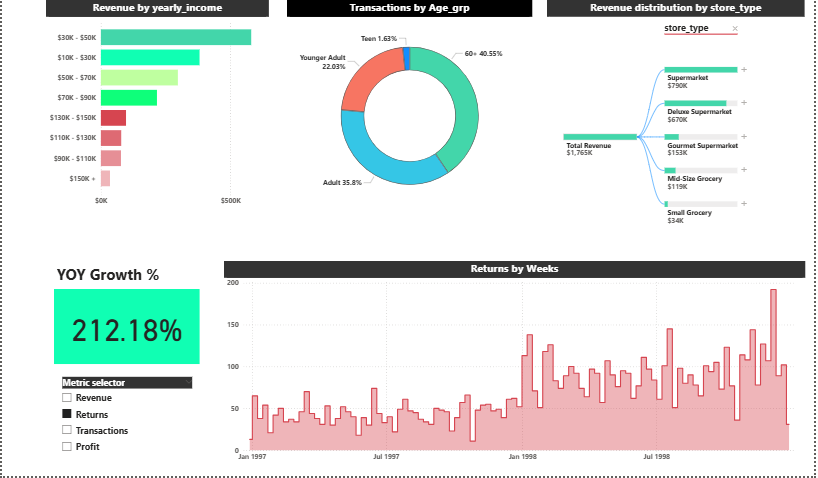

The dashboard page shown, as its layout file describes it:
{"tool":"powerbi","page":{"name":"Customer and store ","canvas":[1450,850],"ordinal":1},"visuals":[{"type":"clusteredBarChart","title":"Revenue by yearly_income","fields":{"Category":["Customers.yearly_income"],"Y":["All Measures.Total Revenue"]},"box":[78.3,0,398.3,376.7],"z":0},{"type":"decompositionTreeVisual","title":"Revenue distribution by store_type","fields":{"Analyze":["All Measures.Total Revenue"],"ExplainBy":["Stores.store_type","Stores.state"]},"box":[974,0,460,442],"z":1000},{"type":"card","fields":{"Values":["All Measures.yoy growth %"]},"box":[92,516,260,134],"z":2000},{"type":"donutChart","title":"Transactions by Age_grp","fields":{"Category":["Customers.Age_grp"],"Y":["All Measures.Total Transactions"]},"box":[508.3,0,438.3,388.3],"z":3000},{"type":"slicer","fields":{"Values":["dimension selector.dimension selector"]},"box":[94,668,258,166],"z":4000},{"type":"areaChart","fields":{"Y":["All Measures.Total Returns"],"Category":["Calender.Start of Week"]},"box":[396,466,1038,368],"z":5000},{"type":"textbox","box":[92,466,252,50],"z":6000}]}

Visuals, with their boxes in screenshot pixels (x1, y1, x2, y2), scaled from the page's 1450x850 canvas onto the 818x478 screenshot:
"Revenue by yearly_income" clusteredBarChart: crop(44, 0, 269, 212)
"Revenue distribution by store_type" decompositionTreeVisual: crop(549, 0, 809, 249)
card - All Measures.yoy growth %: crop(52, 290, 199, 366)
"Transactions by Age_grp" donutChart: crop(287, 0, 534, 218)
slicer - dimension selector.dimension selector: crop(53, 376, 199, 469)
areaChart - All Measures.Total Returns x Calender.Start of Week: crop(223, 262, 809, 469)
textbox: crop(52, 262, 194, 290)
